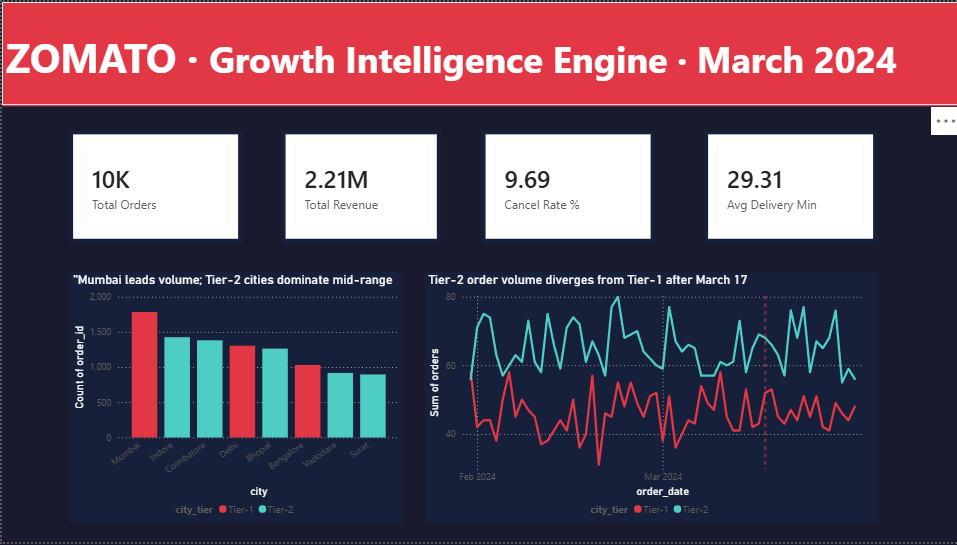

The page's visual inventory and layout, read from the dashboard file:
{"tool":"powerbi","page":{"name":"OVERVIEW","canvas":[1280,720],"ordinal":0},"visuals":[{"type":"shape","box":[0,0,1280.6,139.1],"z":0},{"type":"textbox","box":[0,30.9,1280,107.1],"z":1000},{"type":"cardVisual","fields":{"Data":["orders_clean.Total Orders"]},"box":[90.4,171.3,230.8,149.9],"z":2000},{"type":"cardVisual","fields":{"Data":["orders_clean.Total Revenue"]},"box":[373.5,171.3,211.7,149.9],"z":3000},{"type":"cardVisual","fields":{"Data":["orders_clean.Cancel Rate %"]},"box":[640,171.3,230.8,149.9],"z":4000},{"type":"cardVisual","fields":{"Data":["delivery_clean.Avg Delivery Min"]},"box":[937.4,171.3,230.8,149.9],"z":5000},{"type":"lineChart","title":"Tier-2 order volume diverges from Tier-1 after March 17","fields":{"Category":["pivot4_daily_trend.order_date"],"Series":["pivot4_daily_trend.city_tier"],"Y":["Sum(pivot4_daily_trend.orders)"]},"box":[562.5,360,605,335],"z":6000},{"type":"columnChart","title":"\"Mumbai leads volume; Tier-2 cities dominate mid-range","fields":{"Category":["orders_clean.city"],"Y":["CountNonNull(orders_clean.order_id)"],"Series":["orders_clean.city_tier"]},"box":[90,360,445,335],"z":7000}]}

Visuals, with their boxes in screenshot pixels (x1, y1, x2, y2), scaled from the page's 1280x720 canvas onto the 957x545 screenshot:
shape: box=[0, 0, 956, 105]
textbox: box=[0, 23, 956, 104]
cardVisual - orders_clean.Total Orders: box=[68, 130, 240, 243]
cardVisual - orders_clean.Total Revenue: box=[279, 130, 438, 243]
cardVisual - orders_clean.Cancel Rate %: box=[478, 130, 651, 243]
cardVisual - delivery_clean.Avg Delivery Min: box=[701, 130, 873, 243]
"Tier-2 order volume diverges from Tier-1 after March 17" lineChart: box=[421, 272, 873, 526]
""Mumbai leads volume; Tier-2 cities dominate mid-range" columnChart: box=[67, 272, 400, 526]
